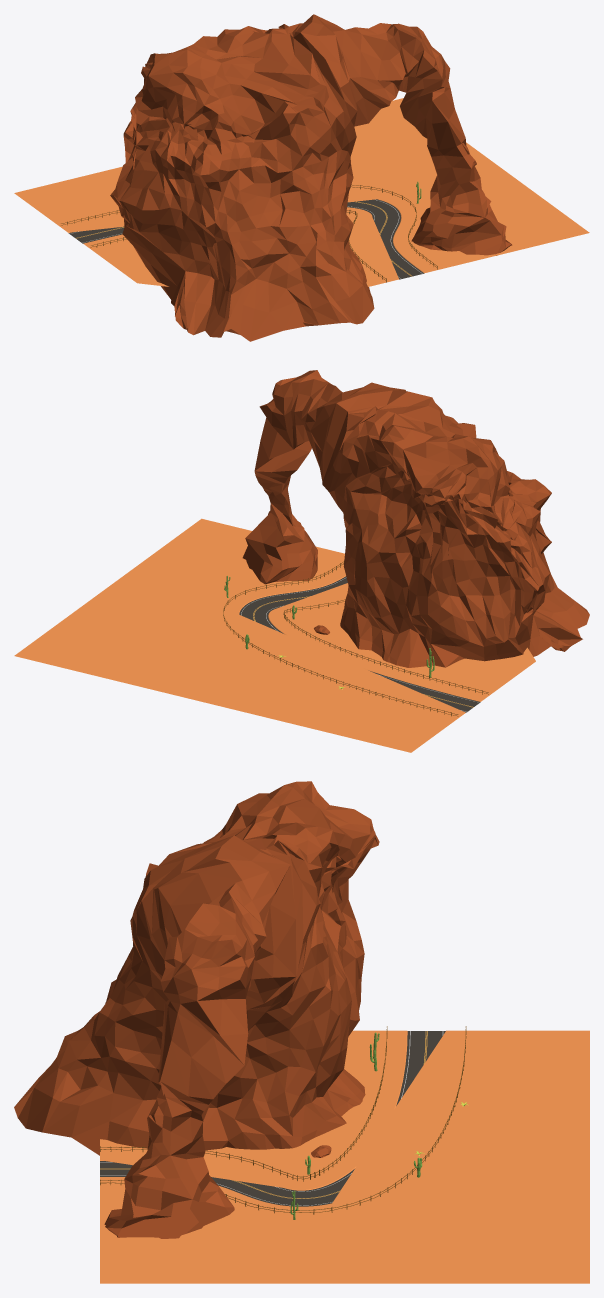
The model's file is DesertRoadLeft2.fbx.
3 views of the same model, one above another, from view 1: azimuth 30°, elevation 25°; view 2: azimuth 150°, elevation 25°; view 3: azimuth 270°, elevation 25° (orthographic). The views are drawn at different scales.
Parts seen in each view (by area): view 1: GiantRock, DRL2Road, DRL2WoodFenceRight; view 2: GiantRock, DRL2Road, DRL2WoodFenceRight, DRL2WoodFenceLeft; view 3: GiantRock, DRL2Road, DRL2WoodFenceRight, DRL2WoodFenceLeft.
Boxes of the visible parts, x1=… form: GiantRock: x1=110, y1=14, x2=512, y2=341; DRL2Road: x1=14, y1=98, x2=589, y2=286; DRL2WoodFenceRight: x1=61, y1=184, x2=437, y2=269; GiantRock: x1=242, y1=370, x2=589, y2=667; DRL2Road: x1=14, y1=518, x2=535, y2=752; DRL2WoodFenceRight: x1=223, y1=561, x2=458, y2=716; DRL2WoodFenceLeft: x1=283, y1=599, x2=488, y2=694; GiantRock: x1=14, y1=781, x2=379, y2=1238; DRL2Road: x1=100, y1=1030, x2=589, y2=1283; DRL2WoodFenceRight: x1=100, y1=1026, x2=466, y2=1214; DRL2WoodFenceLeft: x1=100, y1=1026, x2=387, y2=1181.
Size of what is drawn, in the model's own units: 22811 by 13558 by 21162.
